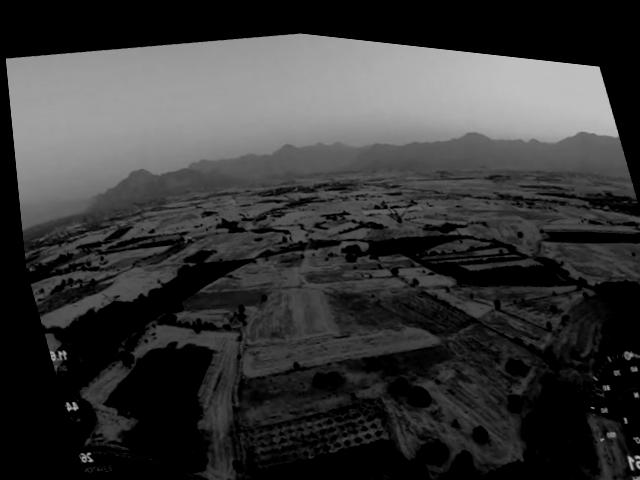hedef: (351, 182, 427, 231)
